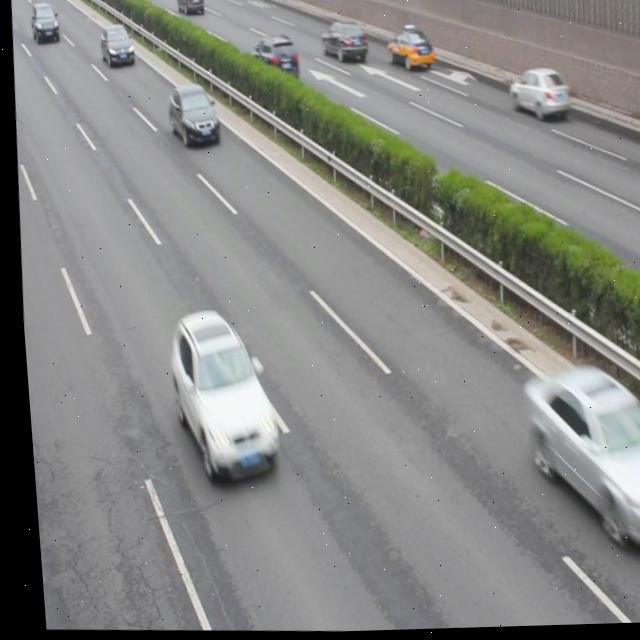car: (510, 369, 640, 558), (158, 311, 276, 481), (505, 66, 567, 124), (164, 85, 220, 145), (383, 26, 432, 75), (317, 20, 368, 62), (251, 37, 298, 80), (97, 22, 135, 69), (29, 1, 60, 41), (176, 0, 203, 13)
